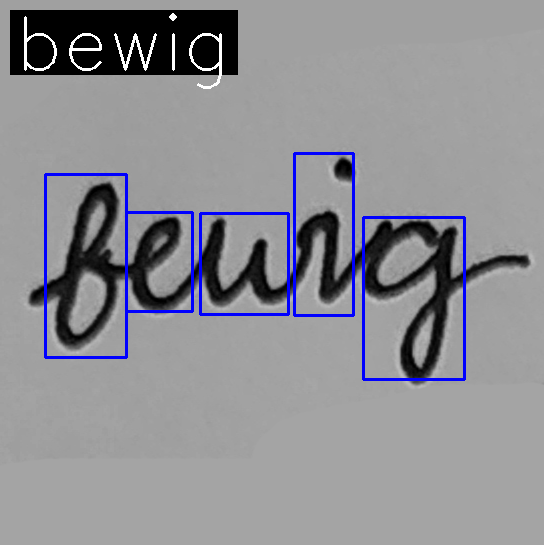b: (49, 178, 123, 355)
e: (128, 212, 187, 317)
g: (361, 216, 461, 387)
i: (317, 151, 358, 308)
w: (196, 208, 317, 308)
